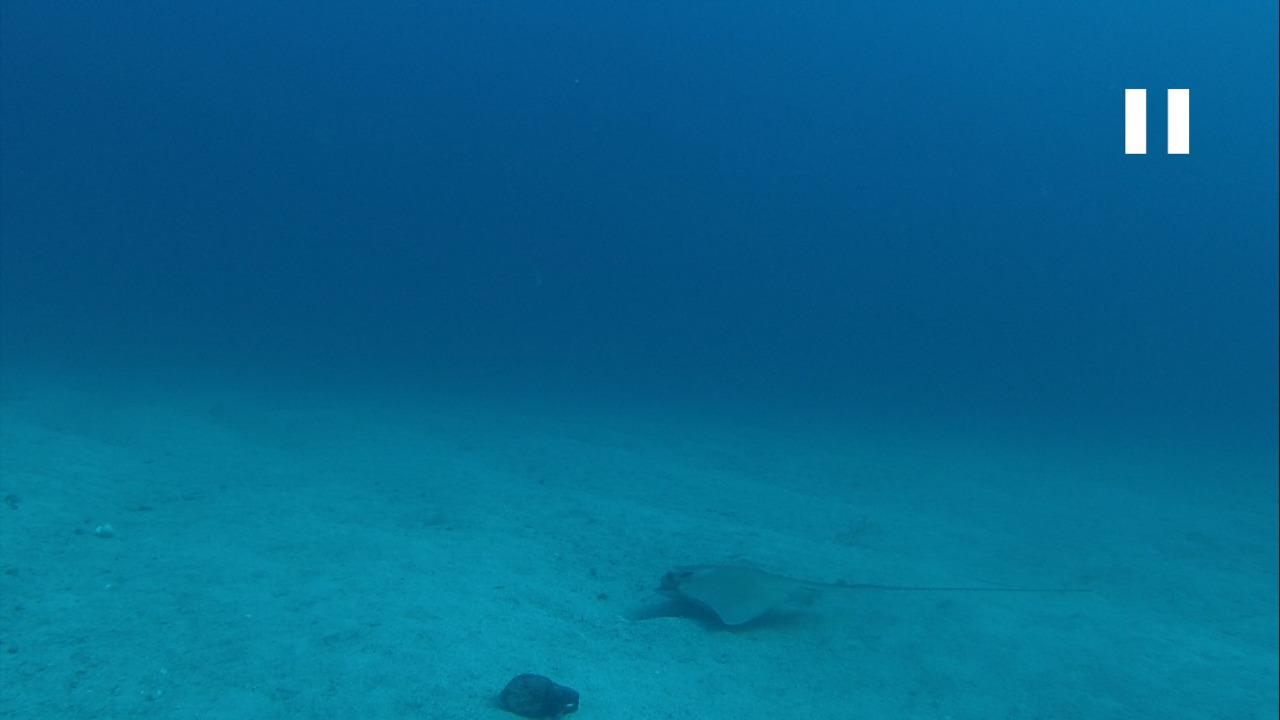myliobatis: (650, 555, 1084, 621)
